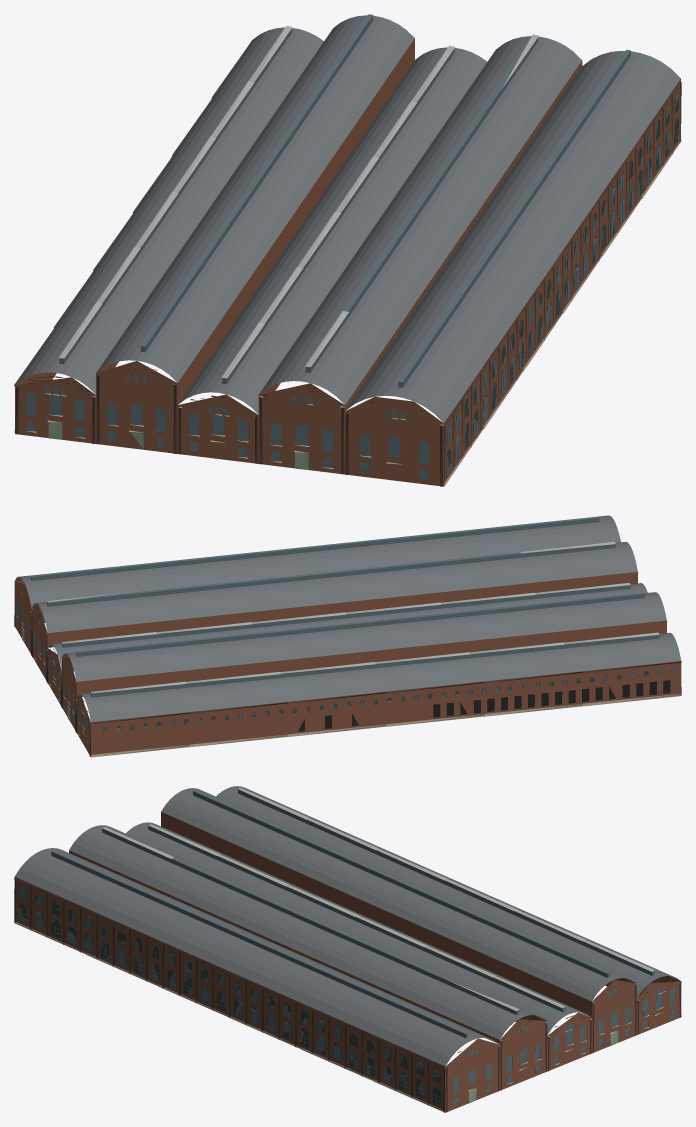
Rendered from van-gendt-hallen.lod1.glb.
3 renders of one model, top to bottom at view 1: azimuth 30°, elevation 25°; view 2: azimuth 150°, elevation 25°; view 3: azimuth 270°, elevation 25°, orthographic. The views are drawn at different scales.
Parts seen in each view (by area): view 1: van-gendt-hallen; view 2: van-gendt-hallen; view 3: van-gendt-hallen.
Boxes of the visible parts, x1,y1,x2,y2 form: van-gendt-hallen: [14, 14, 681, 486]; van-gendt-hallen: [14, 515, 681, 757]; van-gendt-hallen: [14, 786, 681, 1112].
Size of the model in its own units: 171 by 19.15 by 169.
